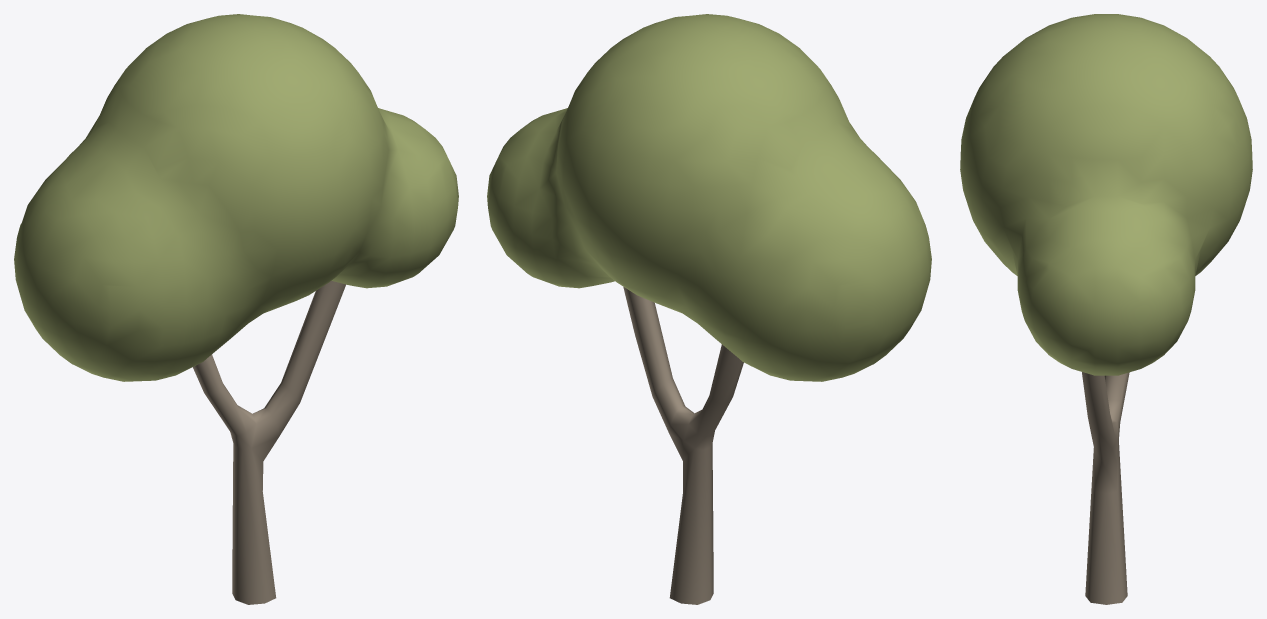
File: oak_b.glb
3 views of the same model, side by side, from view 1: azimuth 30°, elevation 25°; view 2: azimuth 150°, elevation 25°; view 3: azimuth 270°, elevation 25° (orthographic).
Visible parts, largest first — view 1: merged; view 2: merged; view 3: merged.
Boxes of the visible parts, x1,y1,x2,y2 form: merged: (14,14,458,604); merged: (487,14,931,604); merged: (960,14,1252,604).
Bounding box in the file's own units: 4.27 × 5.59 × 2.64.
